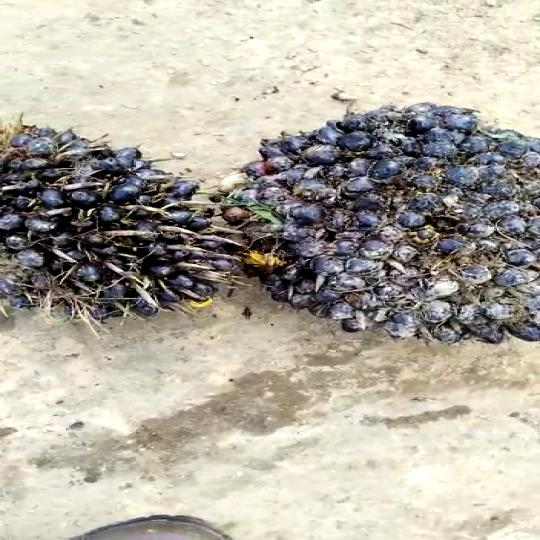mentah: (212, 101, 540, 353), (0, 100, 242, 324)
